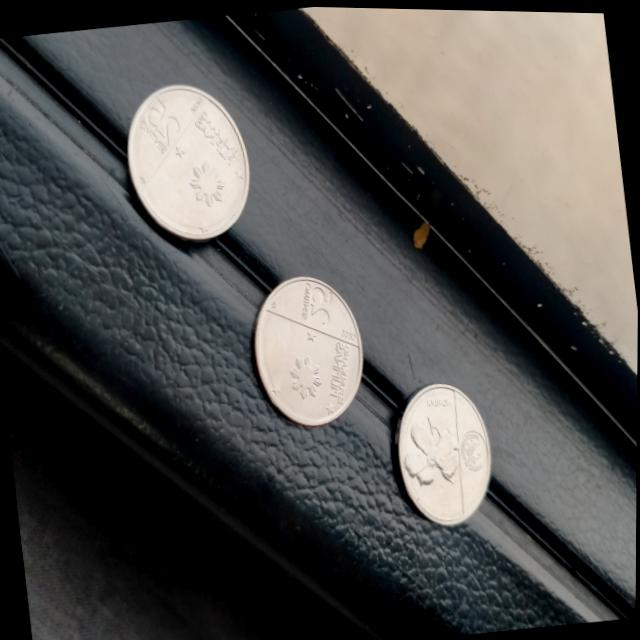25Cent_New_Back: (400, 405, 466, 488)
25Cent_New_Front: (133, 102, 192, 157), (289, 273, 340, 332)
